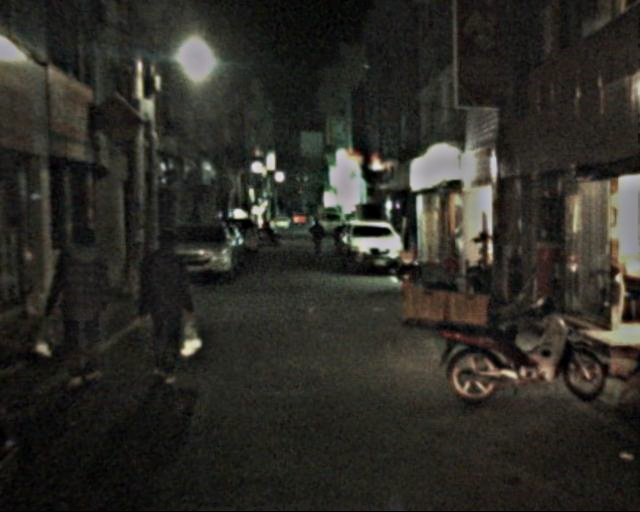person: (49, 222, 120, 386), (137, 226, 200, 387), (305, 216, 325, 259)
